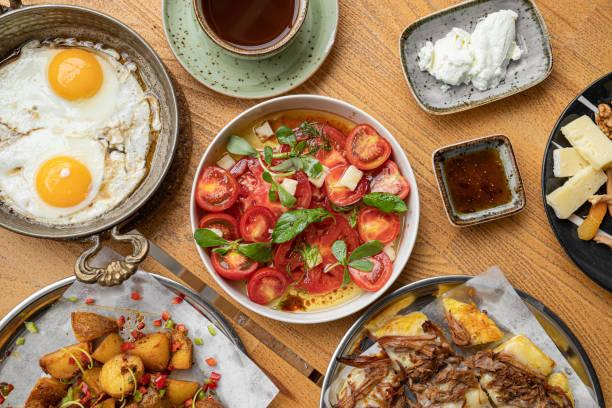Braised Crucian Carp: (190, 95, 414, 321), (1, 4, 185, 246)
